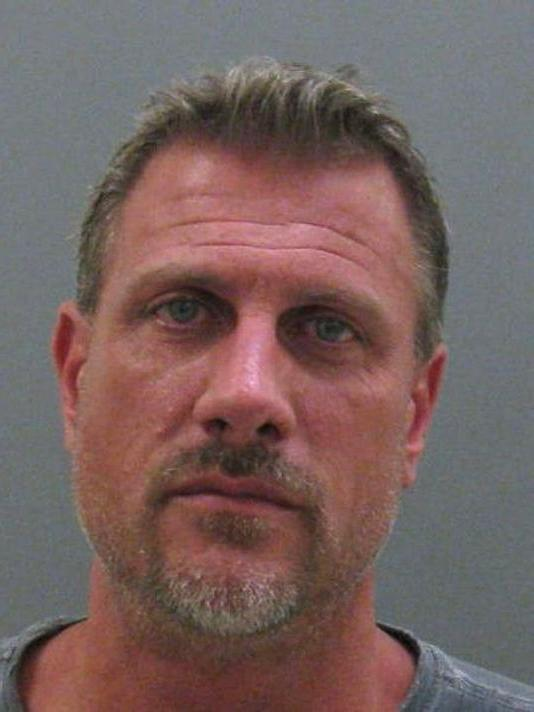Drunk: (109, 169, 399, 616)
